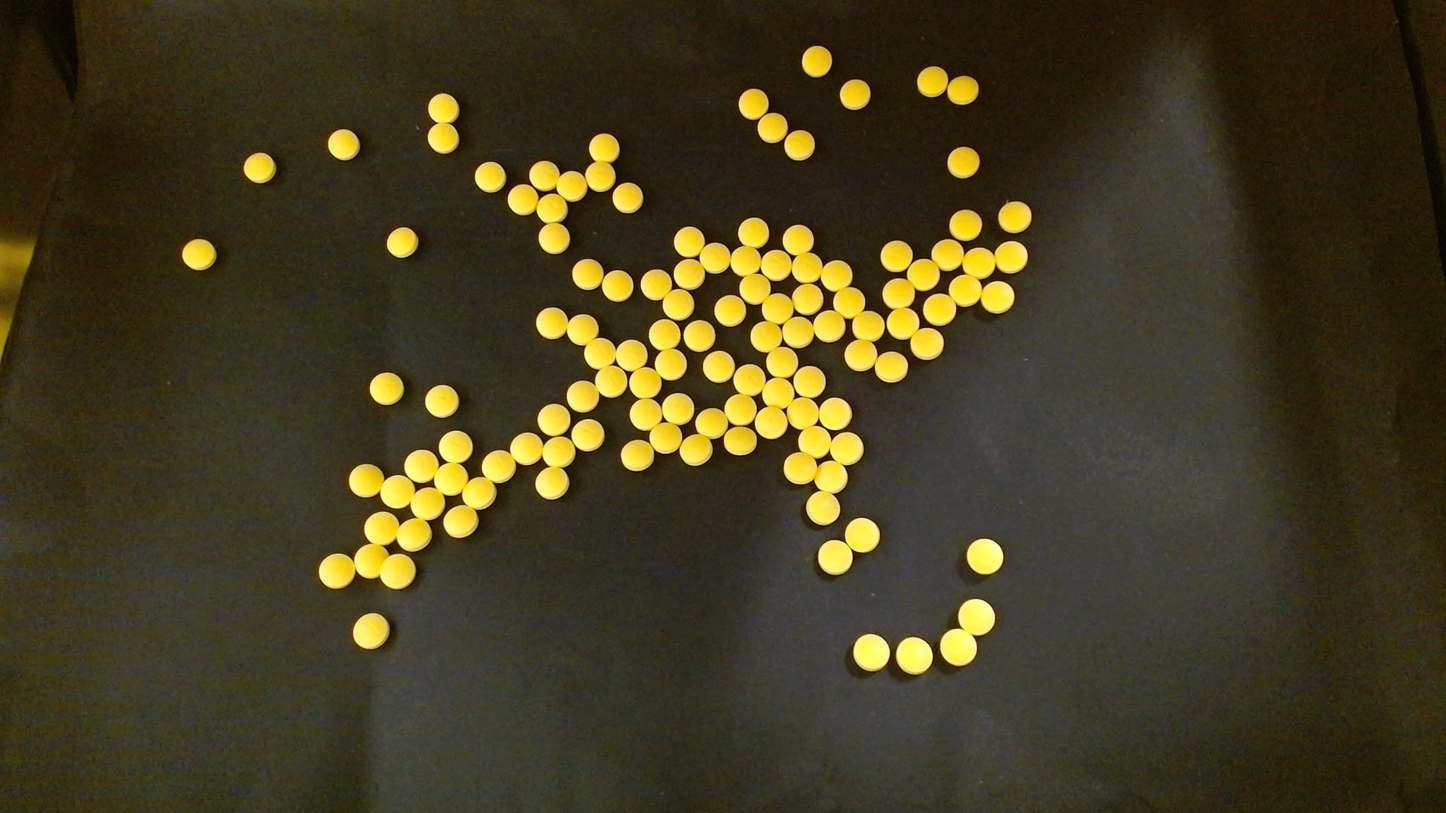Circle: (350, 612, 389, 650), (895, 637, 932, 676), (957, 598, 995, 635), (965, 538, 1003, 575), (853, 633, 889, 672), (939, 629, 976, 666), (353, 543, 389, 579), (319, 553, 355, 589), (380, 553, 415, 589), (816, 540, 853, 574), (844, 517, 879, 552), (348, 463, 383, 497), (434, 461, 468, 495), (438, 430, 472, 464), (443, 505, 478, 538), (396, 518, 431, 551), (369, 372, 404, 405), (818, 397, 852, 430), (380, 475, 413, 509), (535, 467, 569, 500), (364, 511, 398, 544), (805, 492, 839, 525), (566, 379, 599, 412), (981, 279, 1014, 312), (411, 486, 444, 519), (994, 240, 1027, 273), (535, 306, 568, 339), (998, 200, 1031, 233), (482, 450, 516, 482), (404, 449, 438, 481), (923, 293, 956, 325), (661, 392, 694, 424), (537, 403, 569, 436), (570, 419, 603, 451), (679, 434, 712, 466), (875, 350, 908, 382), (424, 385, 457, 417), (813, 310, 845, 342), (714, 294, 746, 326), (601, 270, 633, 302), (815, 460, 847, 492), (880, 240, 912, 272), (831, 432, 863, 464), (538, 222, 570, 254), (911, 327, 943, 359), (962, 246, 995, 277), (462, 477, 495, 508), (783, 452, 816, 483), (620, 440, 653, 471), (615, 339, 647, 370), (584, 337, 616, 368), (543, 436, 575, 467), (703, 351, 734, 383), (511, 433, 543, 464), (949, 209, 981, 240), (947, 146, 978, 178), (182, 239, 215, 269), (883, 278, 914, 309), (566, 315, 597, 346), (683, 320, 714, 351), (596, 364, 627, 395), (886, 308, 917, 339), (641, 269, 672, 300), (845, 339, 876, 370), (655, 348, 686, 379), (799, 425, 831, 455), (650, 422, 682, 452), (572, 258, 602, 290), (243, 152, 275, 182), (907, 259, 938, 289), (950, 274, 980, 305), (663, 289, 693, 320), (795, 365, 825, 396), (649, 318, 679, 349), (761, 293, 792, 323), (932, 239, 963, 269), (761, 376, 792, 406), (725, 394, 755, 425), (782, 224, 813, 254), (630, 398, 660, 429), (853, 310, 883, 341), (788, 398, 819, 428), (630, 367, 660, 398), (673, 226, 703, 257), (474, 161, 505, 191), (426, 123, 457, 153), (917, 65, 947, 96), (328, 129, 358, 160), (801, 45, 831, 76), (821, 260, 851, 290), (782, 317, 812, 347), (760, 250, 790, 280), (766, 346, 796, 376), (740, 273, 770, 303), (793, 282, 823, 312), (536, 193, 566, 223), (699, 242, 729, 272), (529, 160, 559, 190), (585, 160, 615, 190), (734, 364, 764, 394), (738, 218, 768, 248), (785, 130, 815, 160), (612, 182, 642, 212), (589, 132, 619, 162), (738, 88, 768, 118), (840, 78, 870, 108), (386, 227, 416, 257), (755, 406, 786, 435), (673, 259, 704, 288), (750, 321, 779, 352), (725, 426, 756, 455), (697, 408, 728, 437), (947, 76, 978, 105), (428, 93, 459, 122), (834, 288, 864, 317), (792, 252, 821, 282), (731, 245, 761, 274), (557, 171, 586, 200), (758, 113, 787, 142), (507, 184, 535, 213)
